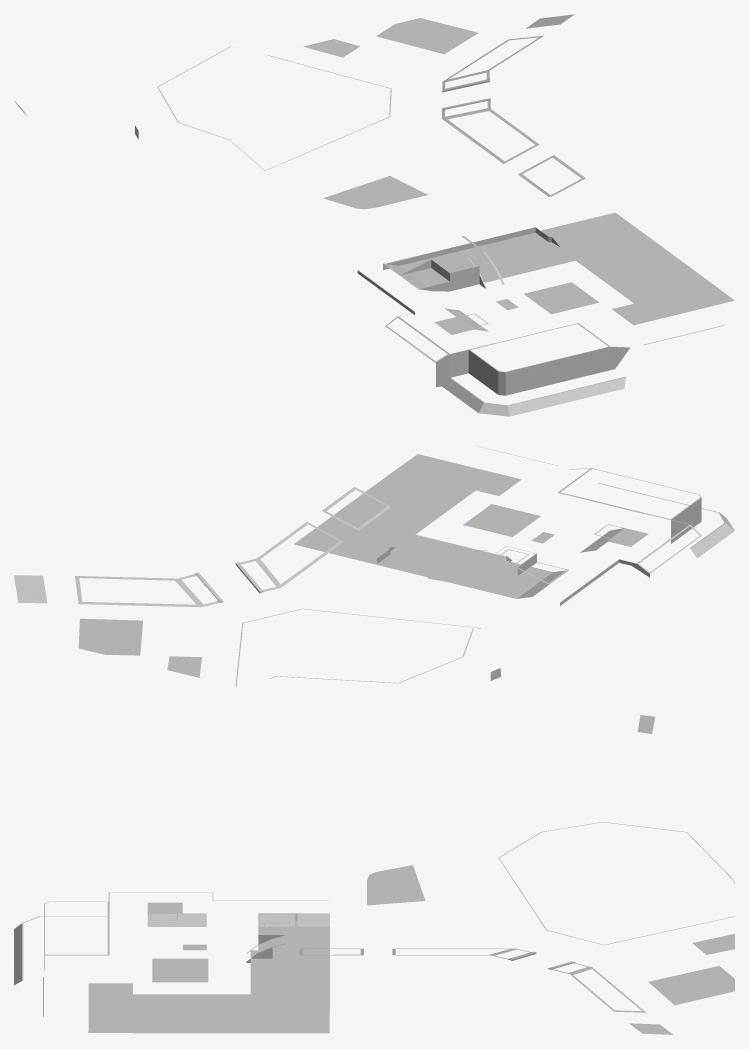
File: kd_stage_1363c5_9_7_bounded.glb
3 views of the same model, one above another, from view 1: azimuth 30°, elevation 25°; view 2: azimuth 150°, elevation 25°; view 3: azimuth 270°, elevation 25° (orthographic). The views are drawn at different scales.
Visible parts, largest first — view 1: kd_stage_1363c5_9_7_bounded; view 2: kd_stage_1363c5_9_7_bounded; view 3: kd_stage_1363c5_9_7_bounded.
Part boxes in pixels (x1=…): kd_stage_1363c5_9_7_bounded: x1=14, y1=14, x2=734, y2=416; kd_stage_1363c5_9_7_bounded: x1=14, y1=445, x2=734, y2=686; kd_stage_1363c5_9_7_bounded: x1=14, y1=715, x2=734, y2=1034.
Size of the model in its own units: 128 by 27.56 by 143.
Materials: 1 (1 with a texture image).
